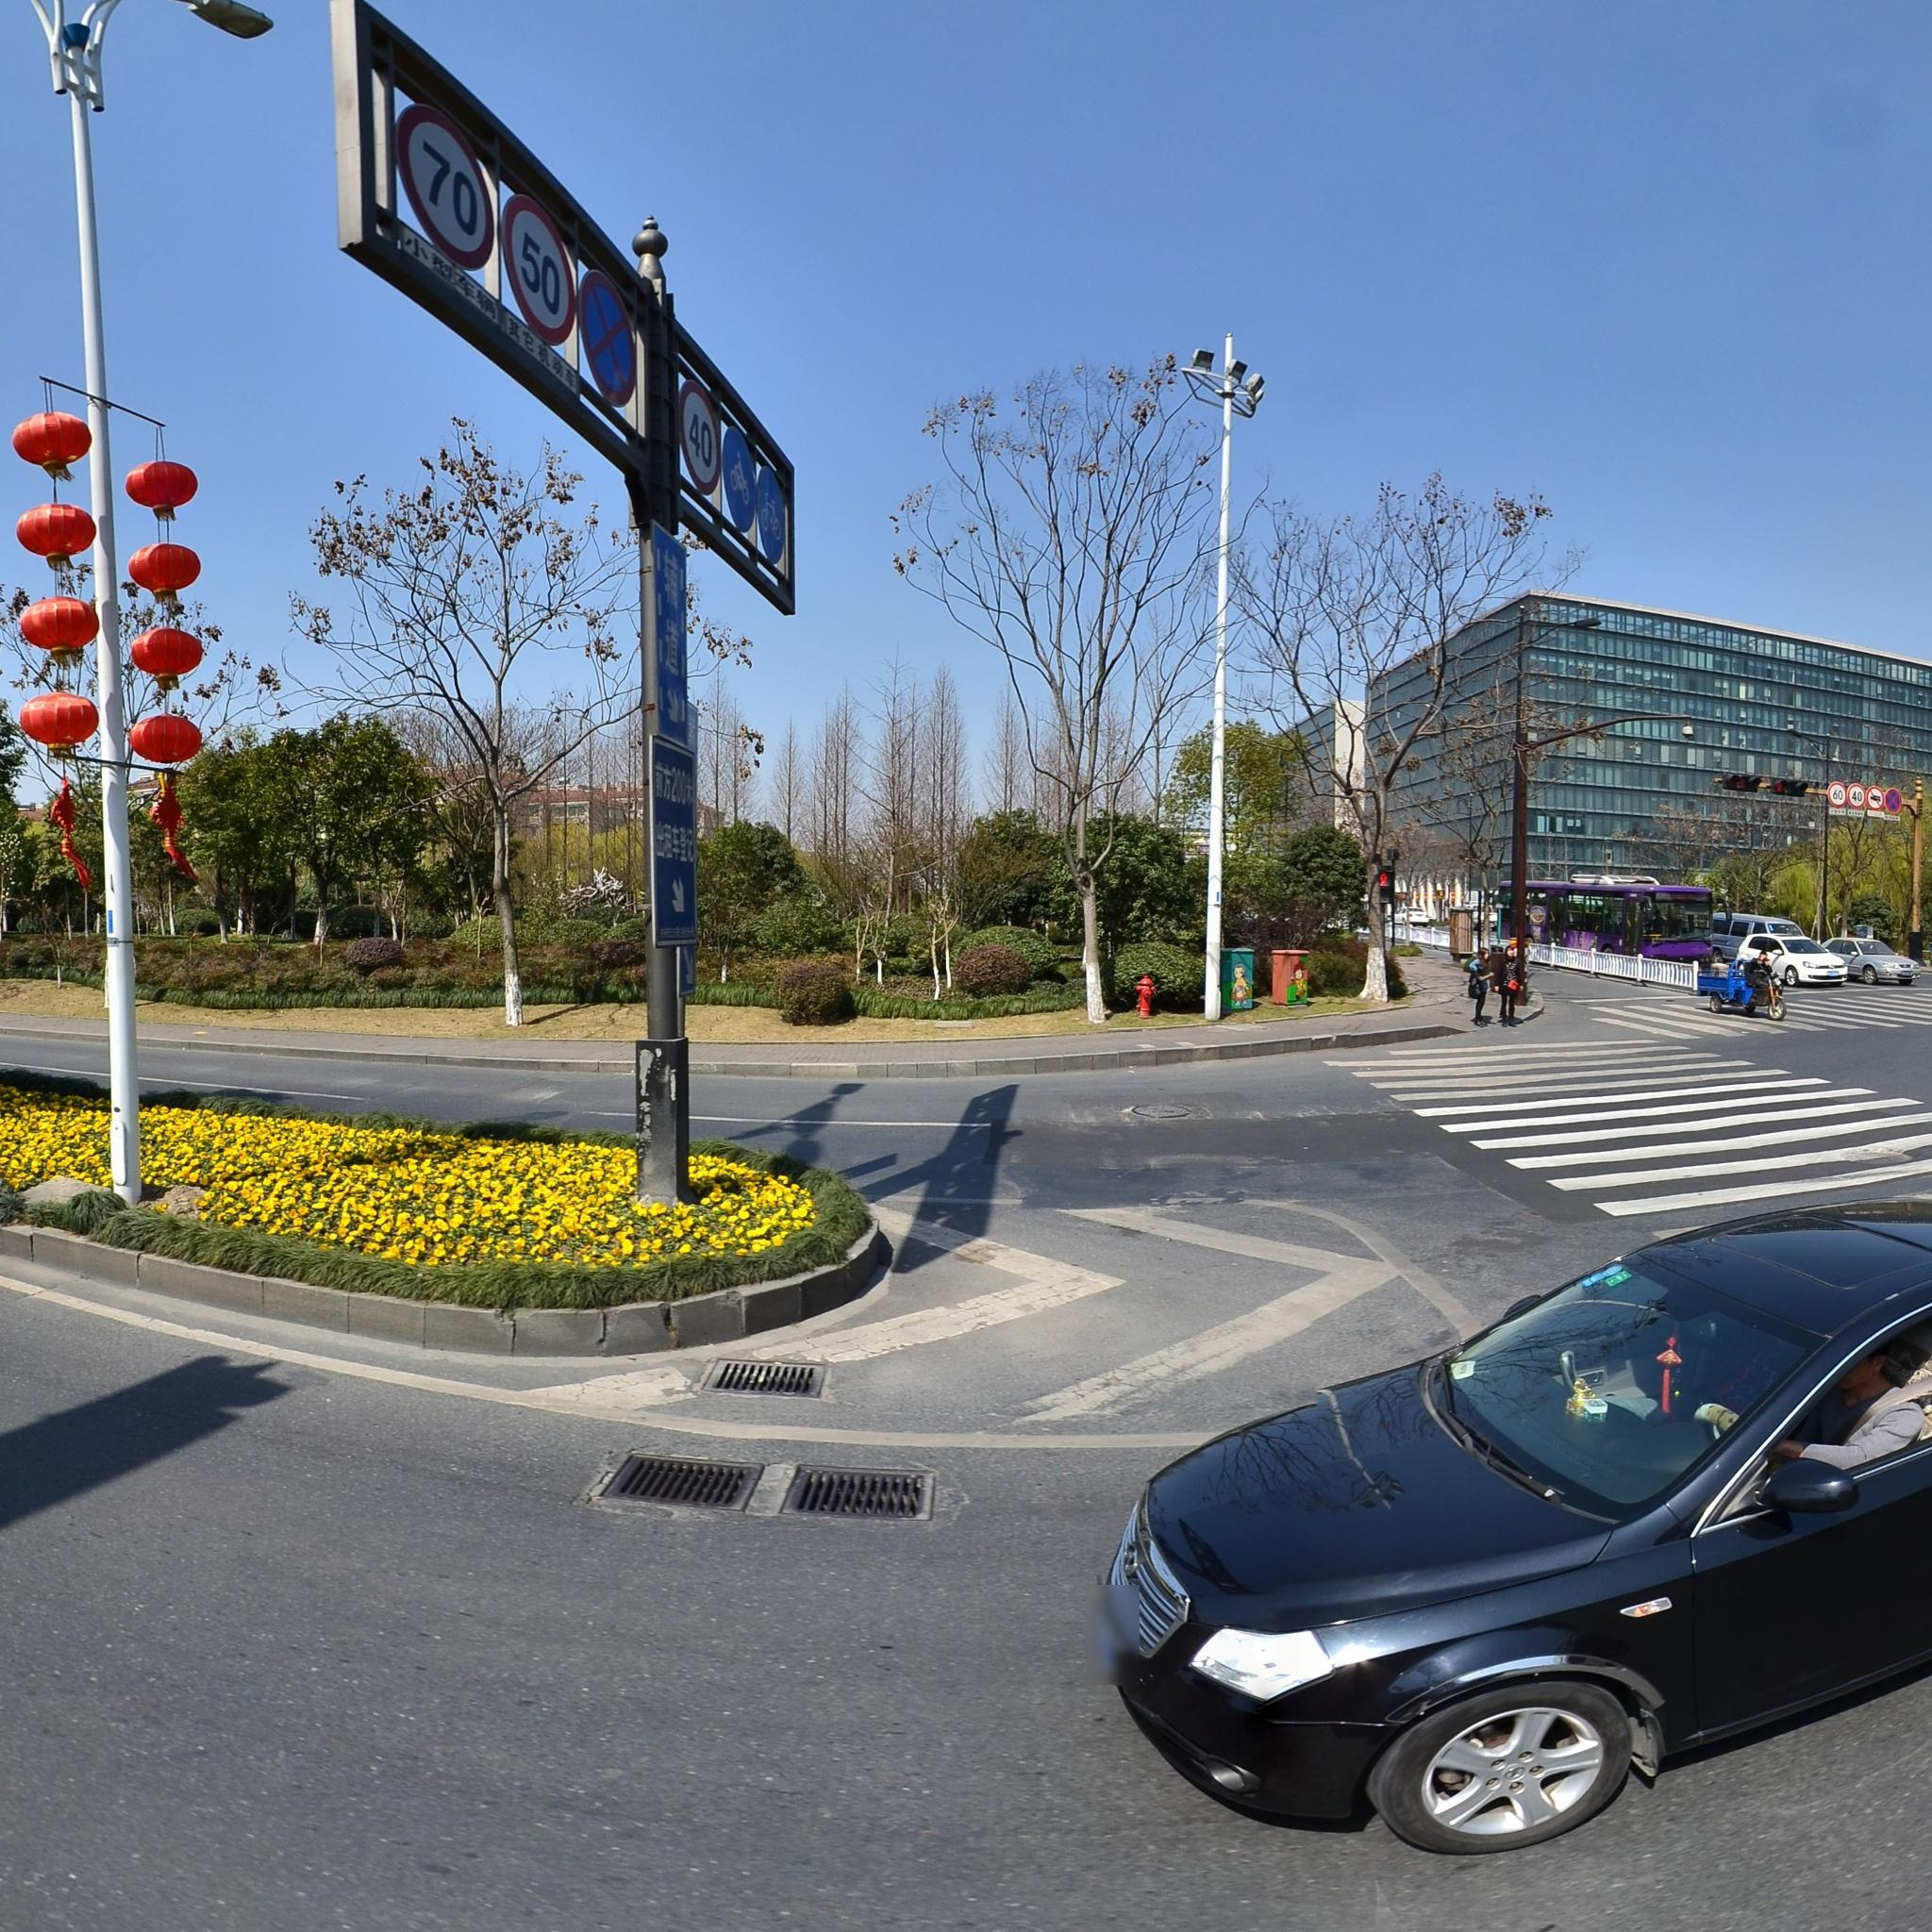i2: (759, 462, 787, 573)
p26: (1870, 787, 1881, 817)
pl40: (683, 389, 720, 490), (1851, 784, 1863, 816)
pl50: (513, 196, 564, 343)
pl60: (1828, 786, 1851, 810)
pl70: (396, 108, 497, 260)
pn: (579, 274, 646, 414), (1886, 784, 1902, 817)
